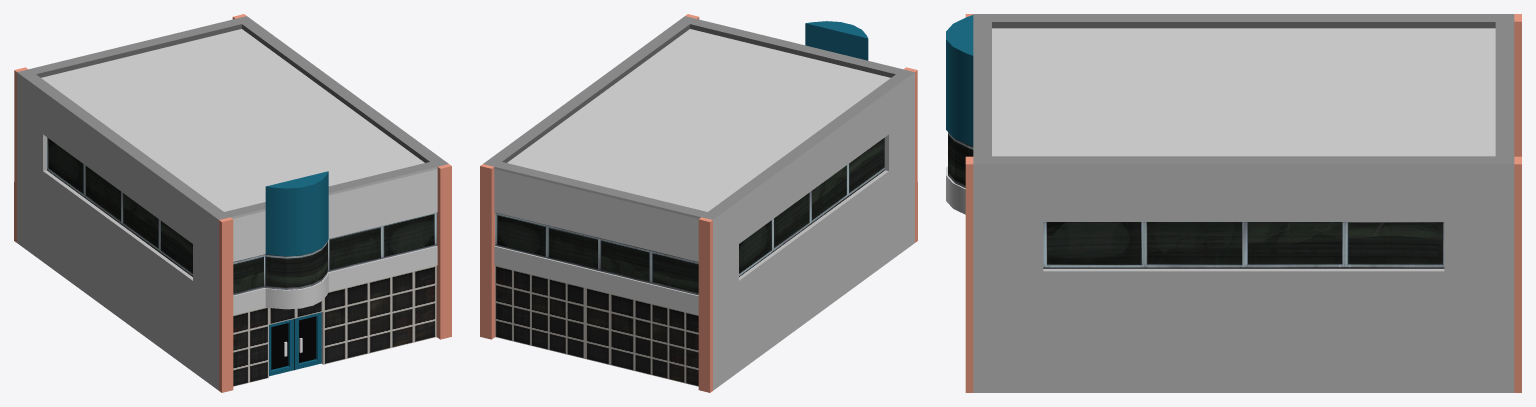
3 renders of one model, left to right at view 1: azimuth 30°, elevation 25°; view 2: azimuth 150°, elevation 25°; view 3: azimuth 270°, elevation 25°, orthographic. The views are drawn at different scales.
Visible parts, largest first — view 1: BB-037; view 2: BB-037; view 3: BB-037.
Boxes of the visible parts, x1=… form: BB-037: x1=14, y1=14, x2=451, y2=392; BB-037: x1=480, y1=14, x2=917, y2=392; BB-037: x1=946, y1=14, x2=1521, y2=392.
Size of what is drawn, in the model's own units: 10 by 8.02 by 16.19.
